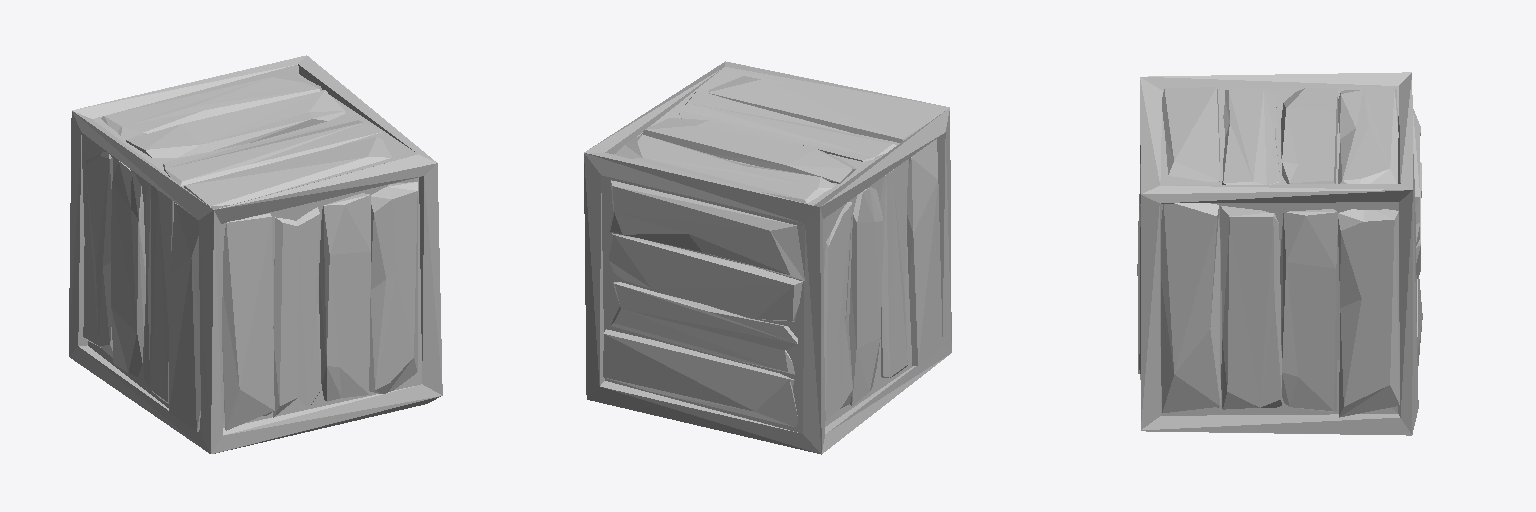
File: Crate.obj
3 renders of one model, left to right at view 1: azimuth 30°, elevation 25°; view 2: azimuth 150°, elevation 25°; view 3: azimuth 270°, elevation 25°, orthographic.
Parts seen in each view (by area): view 1: Crate.002_Cube.197; view 2: Crate.002_Cube.197; view 3: Crate.002_Cube.197.
Boxes of the visible parts, <box> form: Crate.002_Cube.197: <box>69,55,442,453</box>; Crate.002_Cube.197: <box>584,61,951,454</box>; Crate.002_Cube.197: <box>1137,72,1422,435</box>.
Size of the model in its own units: 130 by 130 by 134.